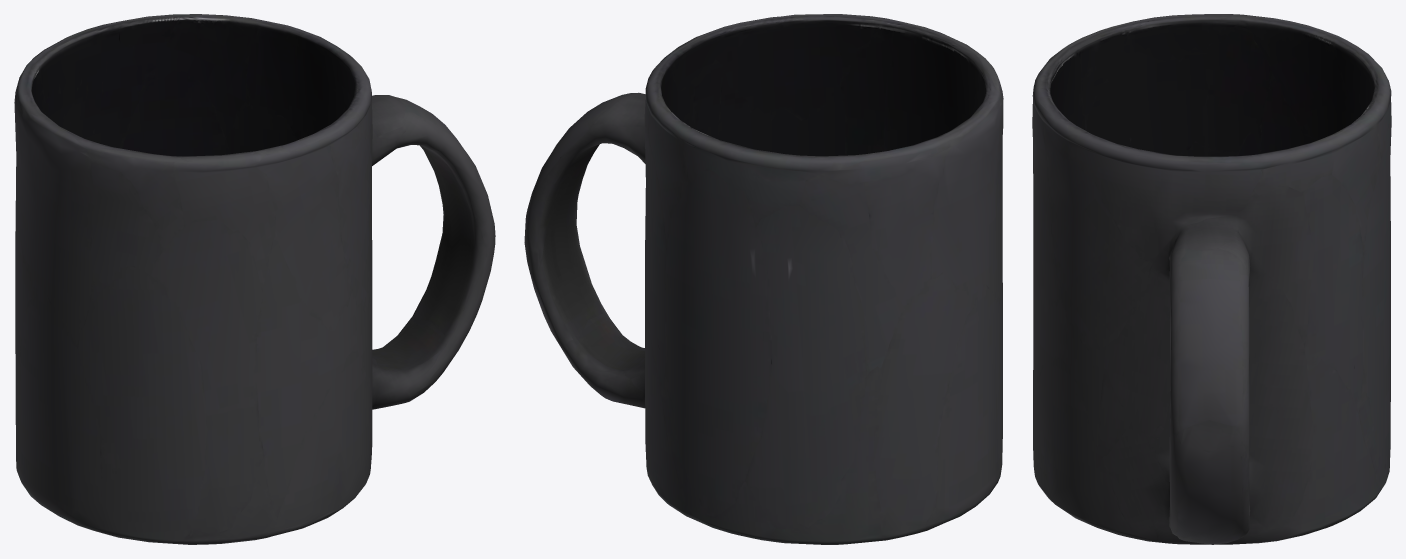
File: model-15-mug.glb
3 views of the same model, side by side, from view 1: azimuth 30°, elevation 25°; view 2: azimuth 150°, elevation 25°; view 3: azimuth 270°, elevation 25° (orthographic).
Parts seen in each view (by area): view 1: node_0; view 2: node_0; view 3: node_0.
Boxes of the visible parts, x1=… form: node_0: x1=14, y1=14, x2=495, y2=544; node_0: x1=524, y1=14, x2=1003, y2=544; node_0: x1=1032, y1=14, x2=1391, y2=544.
Bounding box in the file's own units: 0.9333 × 0.7797 × 0.6548.
Materials: 1 (1 with a texture image).
